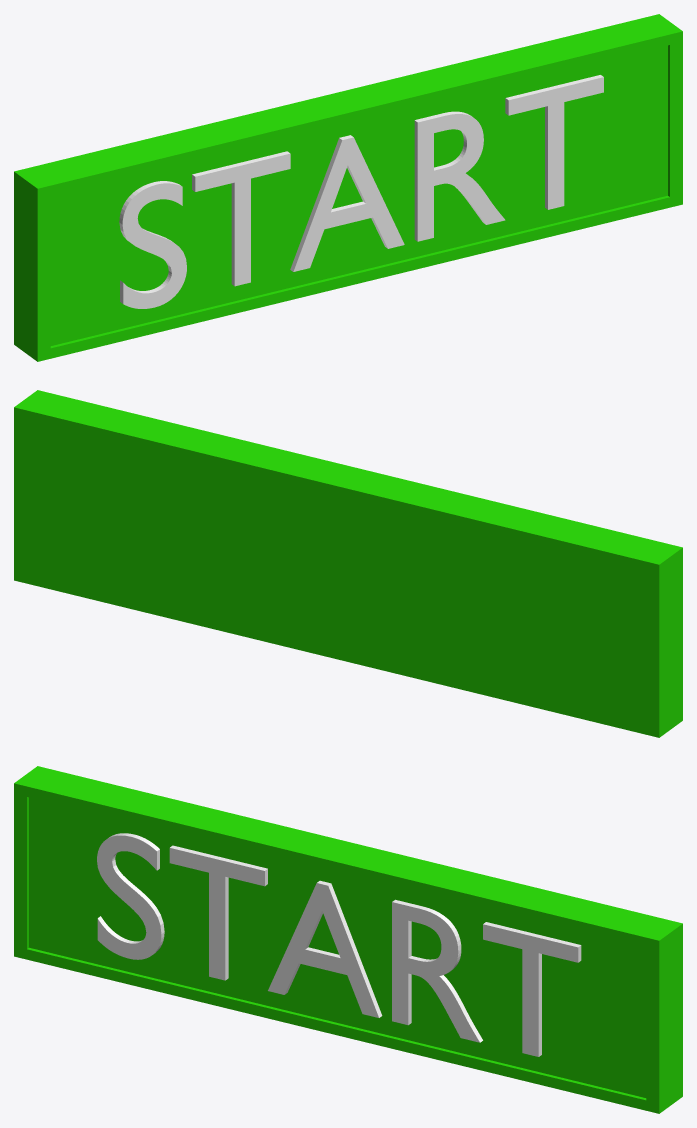
The model's file is Start_Button.fbx.
3 renders of one model, top to bottom at view 1: azimuth 30°, elevation 25°; view 2: azimuth 150°, elevation 25°; view 3: azimuth 330°, elevation 25°, orthographic.
Visible parts, largest first — view 1: Cube, START; view 2: Cube; view 3: Cube, START.
Boxes of the visible parts, box(x1,y1,x2,y2) form: Cube: box(14, 14, 682, 361); START: box(119, 75, 603, 308); Cube: box(14, 390, 682, 737); Cube: box(14, 766, 682, 1113); START: box(97, 833, 581, 1056).
Size of the model in its own units: 3.9 by 1 by 0.258.
